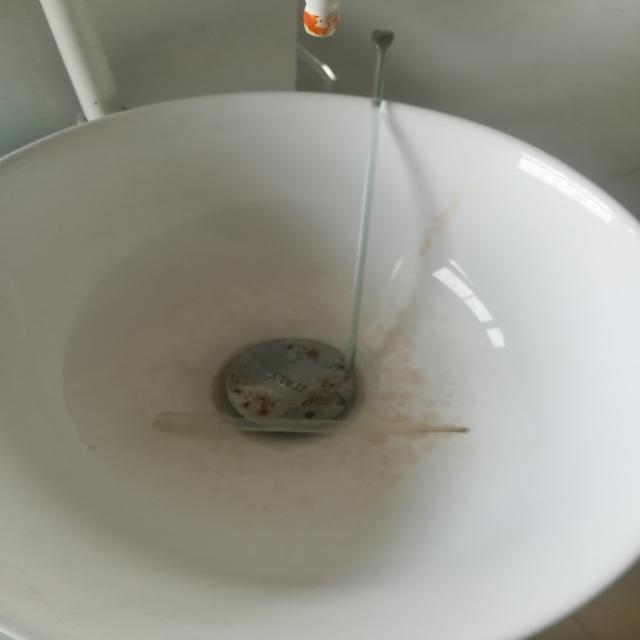Glass_Rod: (316, 4, 418, 384)
Pipette: (128, 396, 488, 466)
